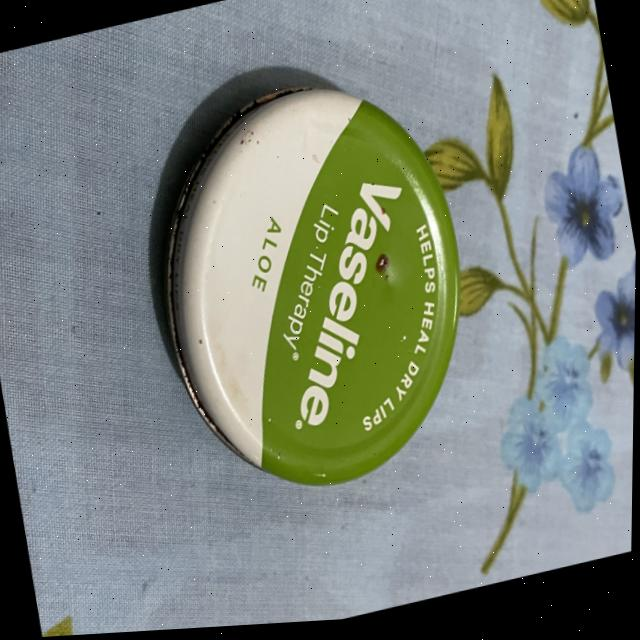lip balm: (116, 20, 516, 561)
